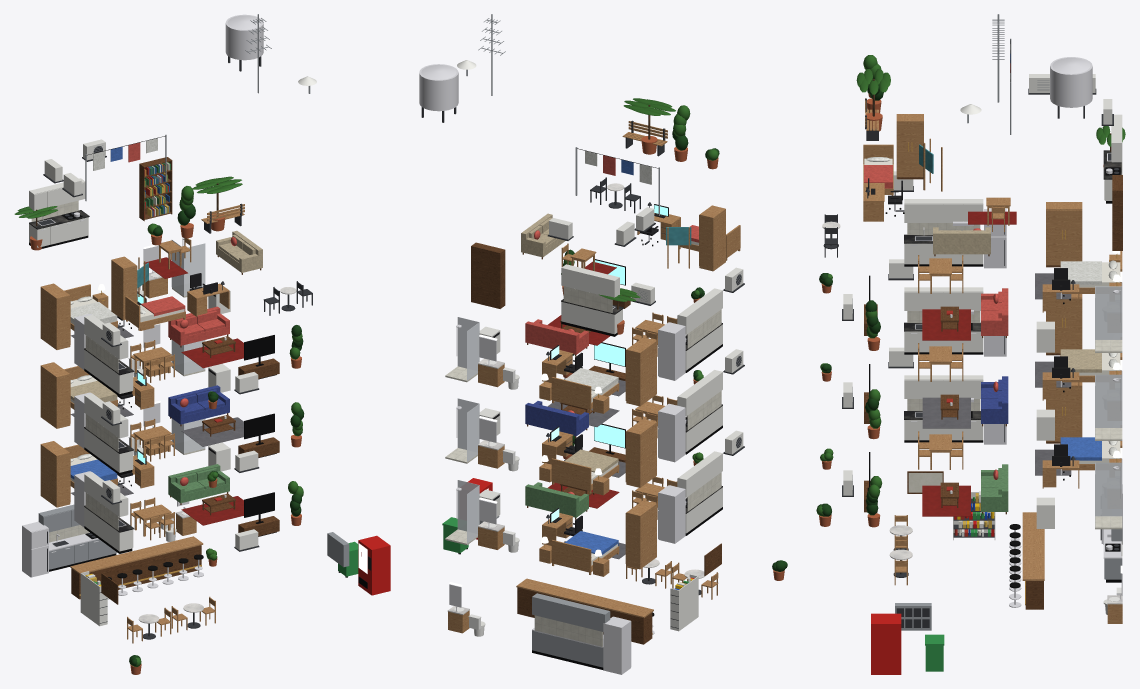
File: i_apt_urban_5f.gltf
3 renders of one model, left to right at view 1: azimuth 30°, elevation 25°; view 2: azimuth 150°, elevation 25°; view 3: azimuth 270°, elevation 25°, orthographic. The views are drawn at different scales.
Parts seen in each view (by area): view 1: I_apt_urban_5f; view 2: I_apt_urban_5f; view 3: I_apt_urban_5f.
Boxes of the visible parts, x1,y1,x2,y2 form: I_apt_urban_5f: (14, 14, 390, 674); I_apt_urban_5f: (419, 14, 787, 674); I_apt_urban_5f: (816, 14, 1125, 674).
Size of the model in its own units: 11.96 by 22.5 by 10.18.
Materials: 43 (16 with a texture image).
